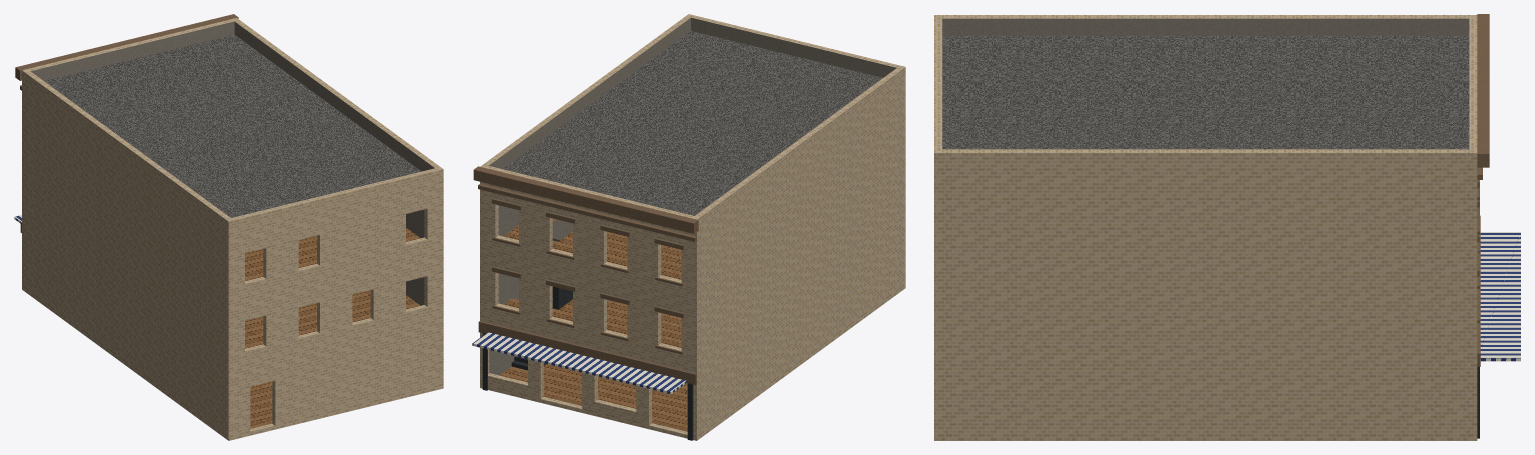
File: main_street_tan_12m_3st.glb
The picture shows the model from 3 angles, left to right: view 1: azimuth 30°, elevation 25°; view 2: azimuth 150°, elevation 25°; view 3: azimuth 270°, elevation 25°; orthographic projection. The views are drawn at different scales.
Parts seen in each view (by area): view 1: main_street_tan_12m_3st; view 2: main_street_tan_12m_3st; view 3: main_street_tan_12m_3st.
Part boxes in pixels (bbox=[...]): main_street_tan_12m_3st: bbox=[14, 14, 443, 440]; main_street_tan_12m_3st: bbox=[472, 14, 905, 440]; main_street_tan_12m_3st: bbox=[934, 14, 1520, 440].
Bounding box in the file's own units: 12.2 × 11.7 × 21.6.
7 materials, 7 textured.
